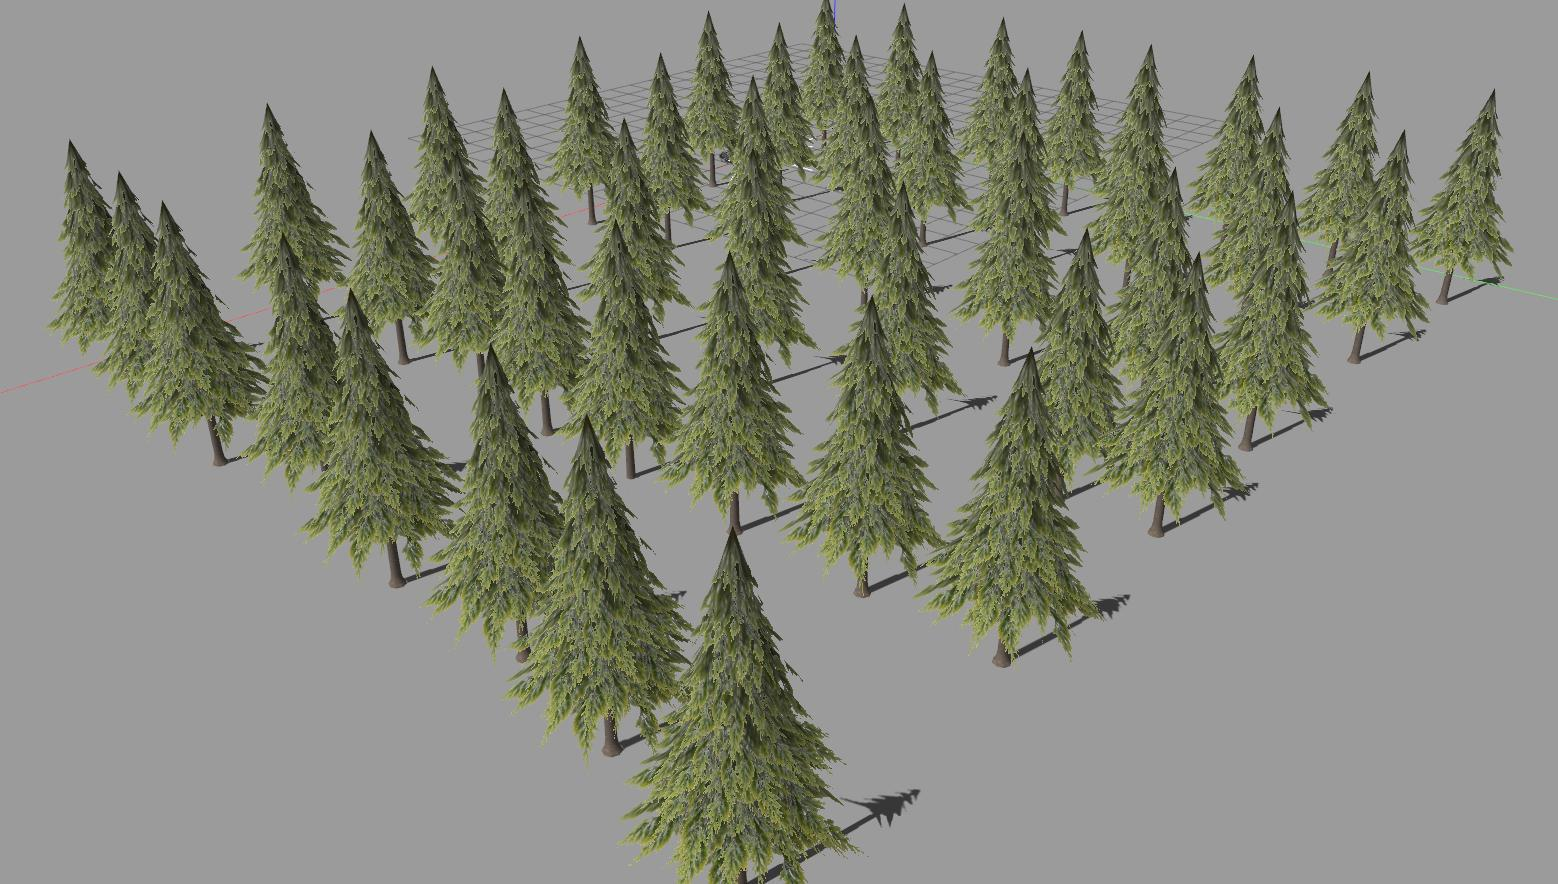tree_gazebo: (627, 535, 849, 883), (508, 420, 688, 758), (922, 356, 1099, 661), (302, 292, 457, 585), (429, 350, 563, 664), (663, 256, 804, 513), (134, 204, 264, 464), (350, 134, 436, 330)
